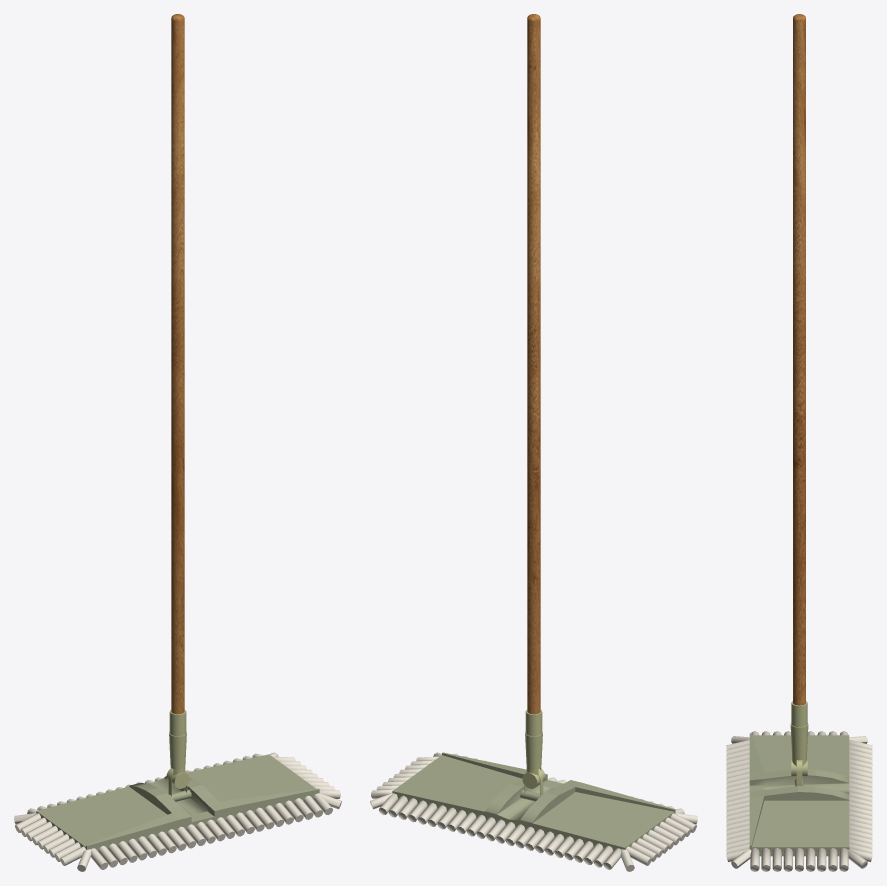
Rendered from Trapeador.fbx.
The picture shows the model from 3 angles, left to right: view 1: azimuth 30°, elevation 25°; view 2: azimuth 150°, elevation 25°; view 3: azimuth 270°, elevation 25°; orthographic projection.
Visible parts, largest first — view 1: Cube, Cylinder, Cylinder.002, Cylinder.003, Cylinder.001; view 2: Cube, Cylinder, Cylinder.002, Cylinder.003, Cylinder.001; view 3: Cube, Cylinder, Cylinder.002, Cylinder.003, Cylinder.001, Cylinder.004.
Boxes of the visible parts, box(x1,y1,x2,y2) form: Cube: box(36, 754, 319, 851); Cylinder: box(171, 14, 184, 714); Cylinder.002: box(27, 753, 332, 869); Cylinder.003: box(15, 756, 340, 865); Cylinder.001: box(169, 710, 186, 775); Cube: box(392, 752, 675, 851); Cylinder: box(527, 14, 540, 714); Cylinder.002: box(379, 753, 684, 869); Cylinder.003: box(371, 756, 696, 865); Cylinder.001: box(525, 710, 542, 775); Cube: box(749, 733, 849, 856); Cylinder: box(793, 14, 805, 705); Cylinder.002: box(726, 740, 872, 861); Cylinder.003: box(750, 731, 848, 871); Cylinder.001: box(790, 701, 808, 766); Cylinder.004: box(731, 736, 867, 868).
Bounding box in the file's own units: 47.77 × 132 × 22.12.
Materials: 4 (1 with a texture image).
